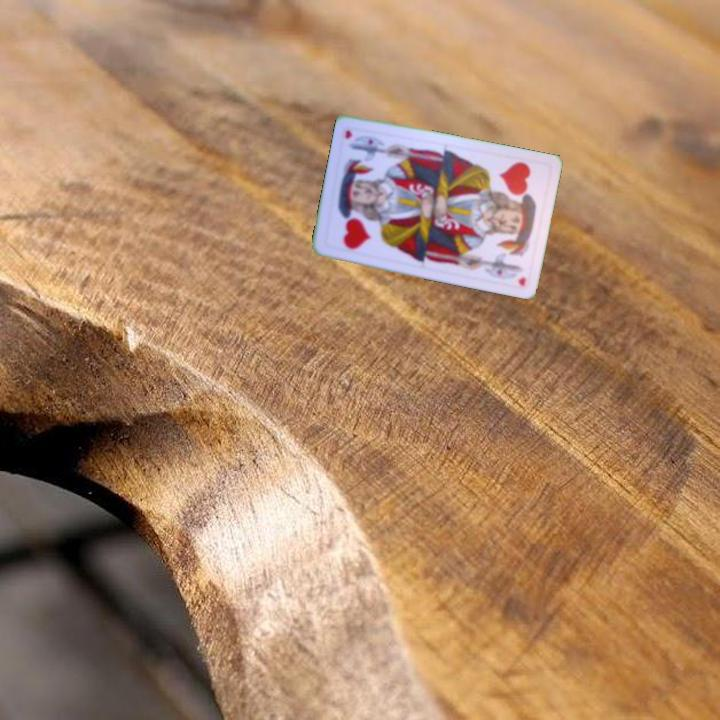h_j.png: (321, 183, 390, 259), (483, 153, 552, 229)
